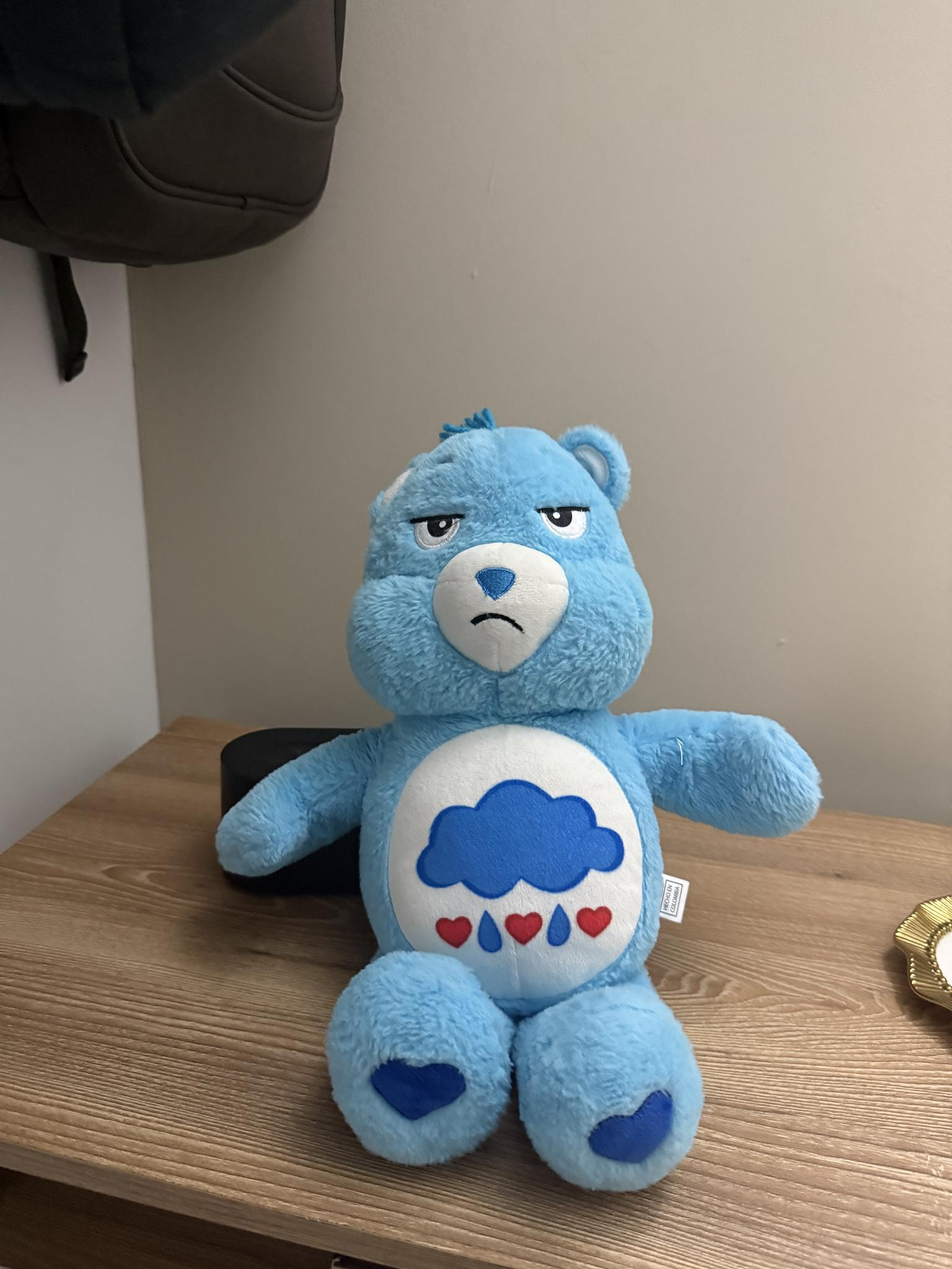peluche_Juan Jose: (200, 420, 829, 1200)
